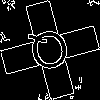Q: (25, 25, 76, 82)
